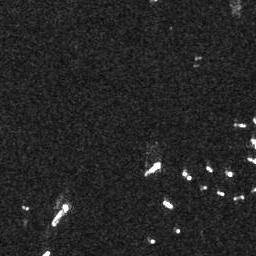ship: (50, 202, 70, 228), (144, 160, 161, 176), (163, 198, 173, 210), (182, 169, 192, 180), (233, 121, 246, 129), (206, 164, 213, 173), (225, 170, 234, 177), (217, 189, 224, 196)
